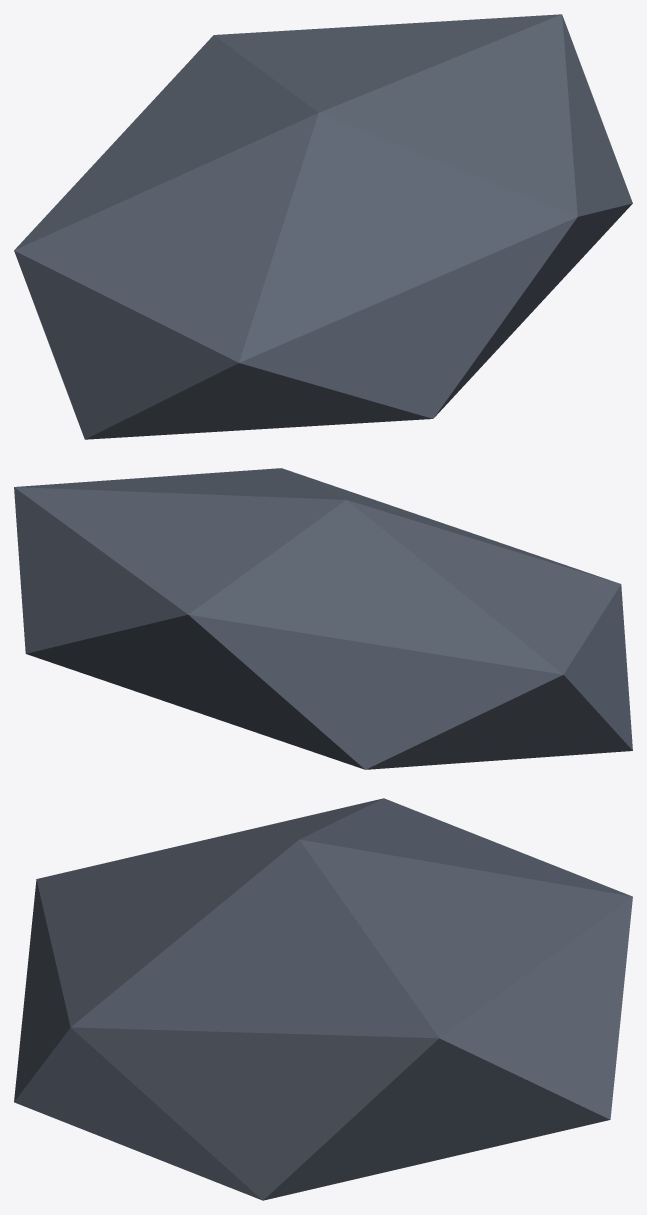
Rendered from EXTG_SouthLooseStone_00.glb.
3 views of the same model, one above another, from view 1: azimuth 30°, elevation 25°; view 2: azimuth 150°, elevation 25°; view 3: azimuth 270°, elevation 25° (orthographic). The views are drawn at different scales.
Visible parts, largest first — view 1: EXTG_SouthLooseStone_00; view 2: EXTG_SouthLooseStone_00; view 3: EXTG_SouthLooseStone_00.
Boxes of the visible parts, <box> form: EXTG_SouthLooseStone_00: <box>14,14,632,439</box>; EXTG_SouthLooseStone_00: <box>14,468,632,769</box>; EXTG_SouthLooseStone_00: <box>14,798,632,1200</box>.
Bounding box in the file's own units: 0.9894 × 0.4126 × 0.7652.
